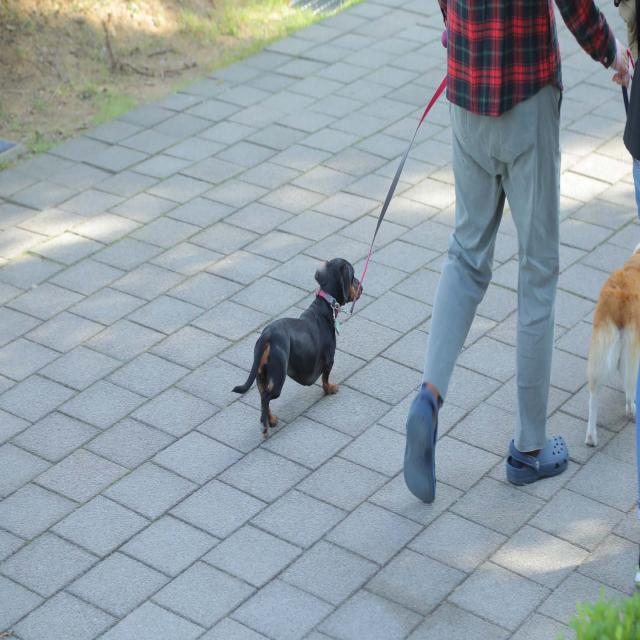Dog: (584, 243, 640, 448)
Leashed_Dog: (230, 61, 468, 438)
